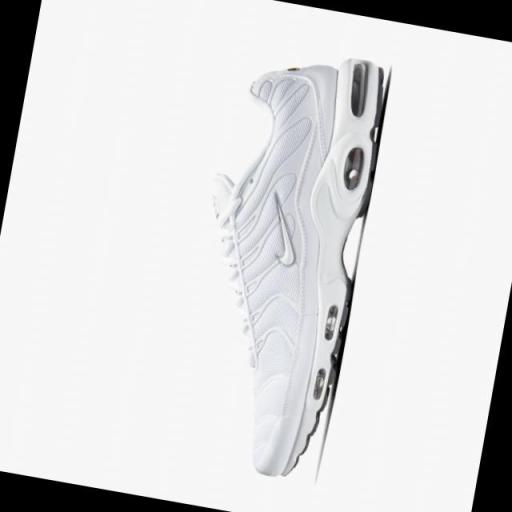Nike: (258, 186, 312, 281)
